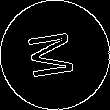M_E: (26, 28, 84, 82)
